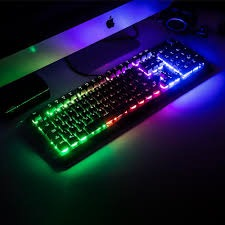keyboard: (21, 39, 218, 172)
